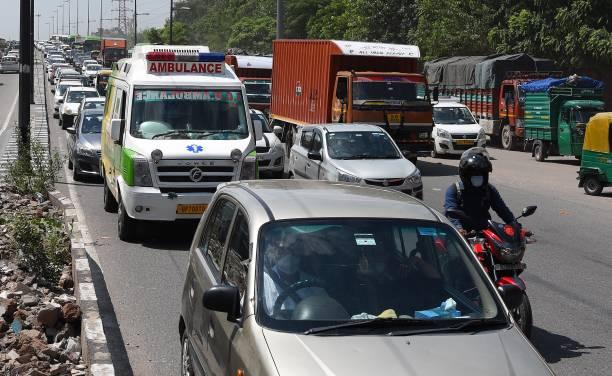AMBULANCE: (124, 84, 251, 185), (137, 47, 230, 90)
